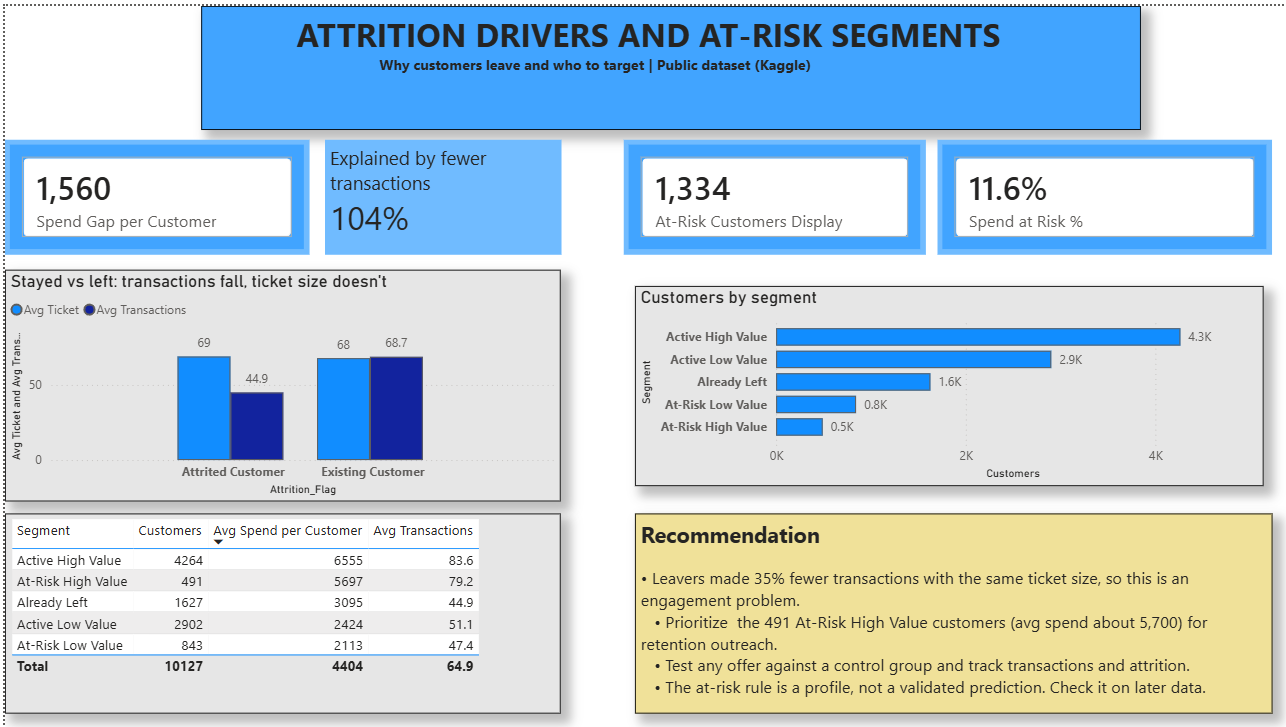

The page's visual inventory and layout, read from the dashboard file:
{"tool":"powerbi","page":{"name":"Drivers","canvas":[1280,720],"ordinal":1},"visuals":[{"type":"textbox","box":[193.5,0,927.6,122.1],"z":0},{"type":"cardVisual","fields":{"Data":["customers_with_segments.At-Risk Customers Display"]},"box":[611.1,132.1,298.8,113.6],"z":1},{"type":"cardVisual","fields":{"Data":["customers_with_segments.Spend at Risk %"]},"box":[920.8,131.7,330.7,113.9],"z":2},{"type":"cardVisual","fields":{"Data":["customers_with_segments.Spend Gap per Customer"]},"box":[0,131.7,300.5,113.9],"z":3},{"type":"textbox","box":[315.6,131.7,233.3,113.9],"z":4},{"type":"clusteredColumnChart","title":"Stayed vs left: transactions fall, ticket size doesn''t","fields":{"Y":["customers_with_segments.Avg Ticket","customers_with_segments.Avg Transactions"],"Category":["customers_with_segments.Attrition_Flag"]},"box":[0,260.7,548.9,229.2],"z":5},{"type":"textbox","box":[622.2,501.2,629.6,197.5],"z":6},{"type":"clusteredBarChart","title":"Customers by segment","fields":{"Category":["customers_with_segments.Segment"],"Y":["customers_with_segments.Customers"]},"box":[622.2,276.5,621,197.5],"z":7},{"type":"tableEx","fields":{"Values":["customers_with_segments.Segment","customers_with_segments.Customers","customers_with_segments.Avg Spend per Customer","customers_with_segments.Avg Transactions"]},"box":[0,500.9,548.9,197.6],"z":8}]}

Visuals, with their boxes in screenshot pixels (x1, y1, x2, y2), scaled from the page's 1280x720 canvas onto the 1286x727 screenshot:
textbox: box(194, 0, 1126, 123)
cardVisual - customers_with_segments.At-Risk Customers Display: box(614, 133, 914, 248)
cardVisual - customers_with_segments.Spend at Risk %: box(925, 133, 1257, 248)
cardVisual - customers_with_segments.Spend Gap per Customer: box(0, 133, 302, 248)
textbox: box(317, 133, 551, 248)
"Stayed vs left: transactions fall, ticket size doesn''t" clusteredColumnChart: box(0, 263, 551, 495)
textbox: box(625, 506, 1258, 705)
"Customers by segment" clusteredBarChart: box(625, 279, 1249, 479)
tableEx - customers_with_segments.Segment x customers_with_segments.Customers: box(0, 506, 551, 705)
